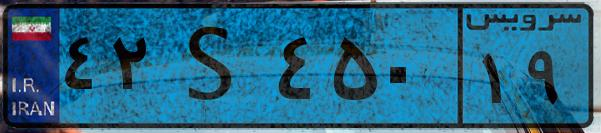0: (385, 28, 445, 110)
1: (475, 38, 525, 113)
2: (110, 28, 158, 98)
4: (270, 28, 330, 110), (57, 26, 110, 100)
5: (330, 28, 385, 110)
9: (525, 38, 570, 115)
S: (158, 12, 270, 120)
